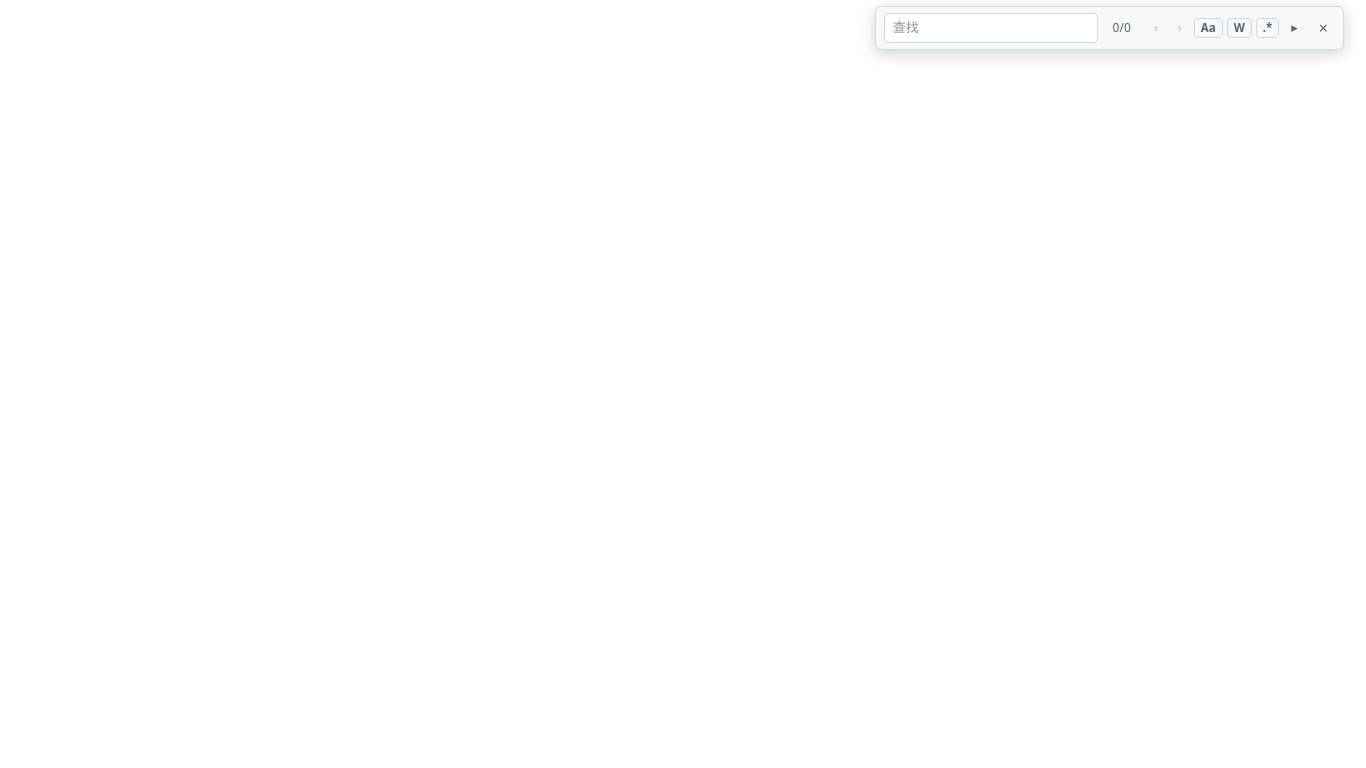
Test: SearchPanel › counts matches and hands them to the source bridge
The image size is (1366, 768).
In the field with placeholder "查找": (991, 28) [884,13,1098,42], type "foo"
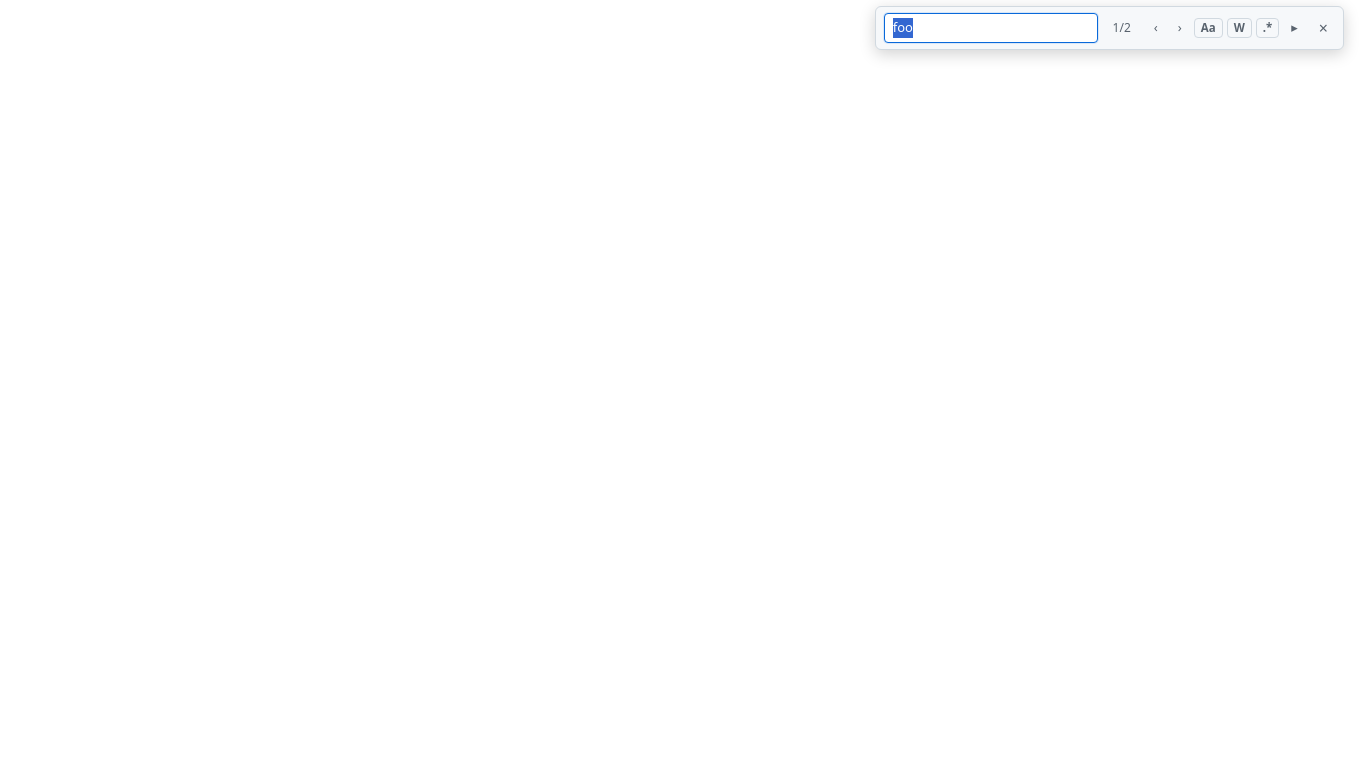
Expected: the text "1/2" is shown, [1113,19,1131,36]
